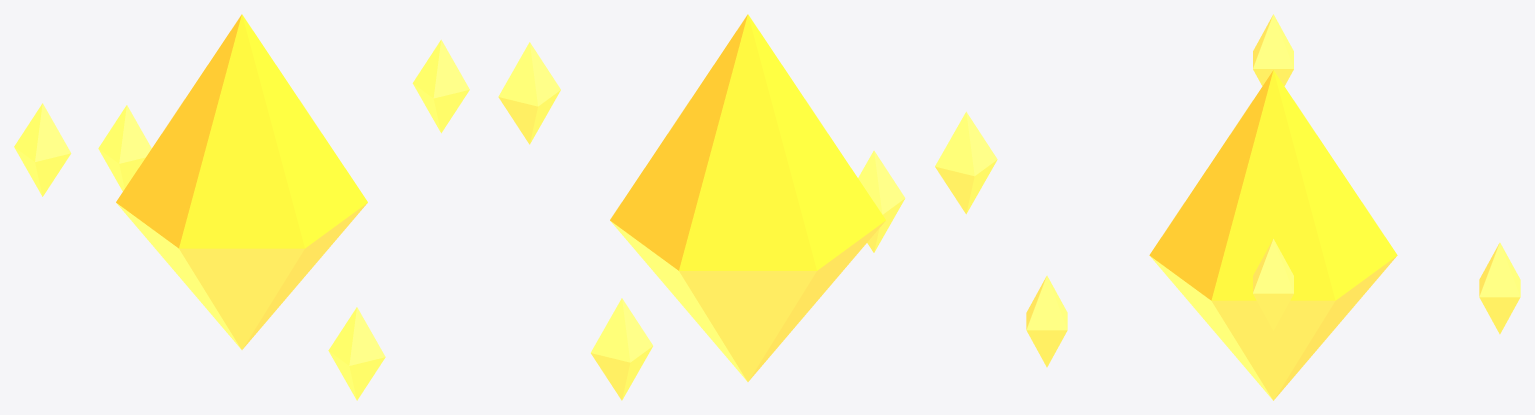
The model's file is core_fragment_v1_diamond.glb.
The picture shows the model from 3 angles, left to right: view 1: azimuth 30°, elevation 25°; view 2: azimuth 150°, elevation 25°; view 3: azimuth 270°, elevation 25°; orthographic projection. The views are drawn at different scales.
Parts seen in each view (by area): view 1: CoreFragment_Crystal, CoreFragment_Shard4, CoreFragment_Shard1, CoreFragment_Shard3, CoreFragment_Shard2; view 2: CoreFragment_Crystal, CoreFragment_Shard2, CoreFragment_Shard1, CoreFragment_Shard3, CoreFragment_Shard4; view 3: CoreFragment_Crystal, CoreFragment_Shard4, CoreFragment_Shard2, CoreFragment_Shard1, CoreFragment_Shard3.
Part boxes in pixels (x1,y1,x2,y2): CoreFragment_Crystal: (116,14,367,349); CoreFragment_Shard4: (328,307,385,400); CoreFragment_Shard1: (412,39,469,133); CoreFragment_Shard3: (14,103,71,196); CoreFragment_Shard2: (98,105,151,191); CoreFragment_Crystal: (610,14,885,381); CoreFragment_Shard2: (591,298,652,400); CoreFragment_Shard1: (498,42,560,144); CoreFragment_Shard3: (935,111,997,214); CoreFragment_Shard4: (858,150,905,252); CoreFragment_Crystal: (1149,70,1397,400); CoreFragment_Shard4: (1026,275,1067,367); CoreFragment_Shard2: (1479,242,1520,334); CoreFragment_Shard1: (1253,239,1293,330); CoreFragment_Shard3: (1253,14,1293,85).
Bounding box in the file's own units: 0.6766 × 0.5 × 0.6766.
